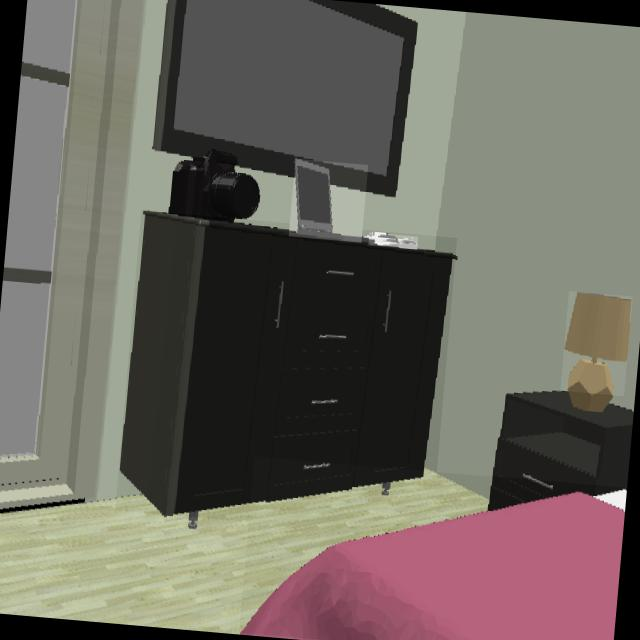bed: (239, 489, 626, 640)
book: (368, 233, 417, 249)
cabinet: (118, 211, 455, 517)
lamp: (563, 292, 631, 415)
laptop: (295, 159, 361, 241)
nighttable: (487, 391, 633, 512)
